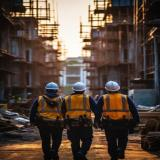Helmet: (104, 80, 121, 92), (71, 82, 87, 92), (45, 82, 59, 90)
Vest: (98, 92, 132, 124), (62, 93, 93, 125), (36, 95, 65, 126)
